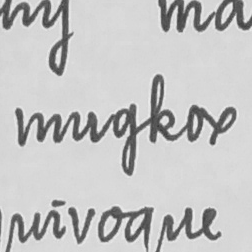g: (111, 100, 141, 177)
k: (146, 72, 178, 146)
m: (14, 106, 65, 149)
o: (183, 103, 204, 144)
u: (68, 109, 101, 146)
x: (207, 103, 238, 147)
